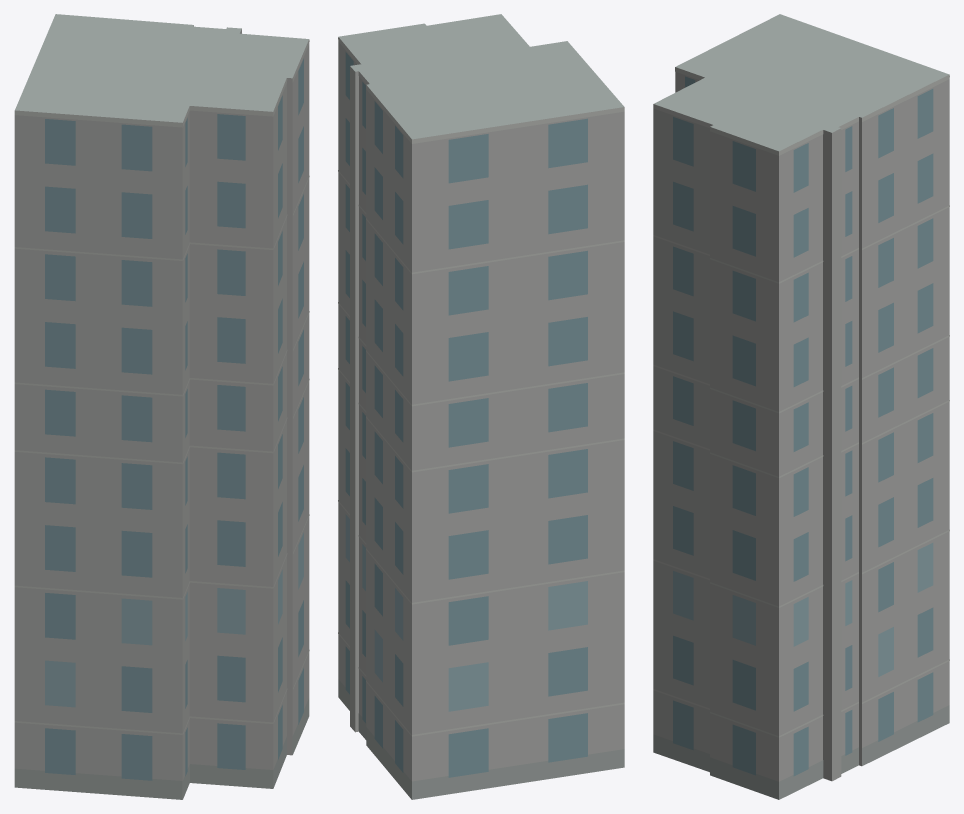
File: survey-upis-32568362.glb
3 views of the same model, side by side, from view 1: azimuth 30°, elevation 25°; view 2: azimuth 150°, elevation 25°; view 3: azimuth 270°, elevation 25° (orthographic). The views are drawn at different scales.
Visible parts, largest first — view 1: survey-upis-32568362.tmp; view 2: survey-upis-32568362.tmp; view 3: survey-upis-32568362.tmp.
Part boxes in pixels (box(x1,y1,x2,y2)): survey-upis-32568362.tmp: box(14, 14, 309, 799); survey-upis-32568362.tmp: box(338, 14, 624, 799); survey-upis-32568362.tmp: box(653, 14, 949, 799).
Bounding box in the file's own units: 15.92 × 35 × 14.51.
